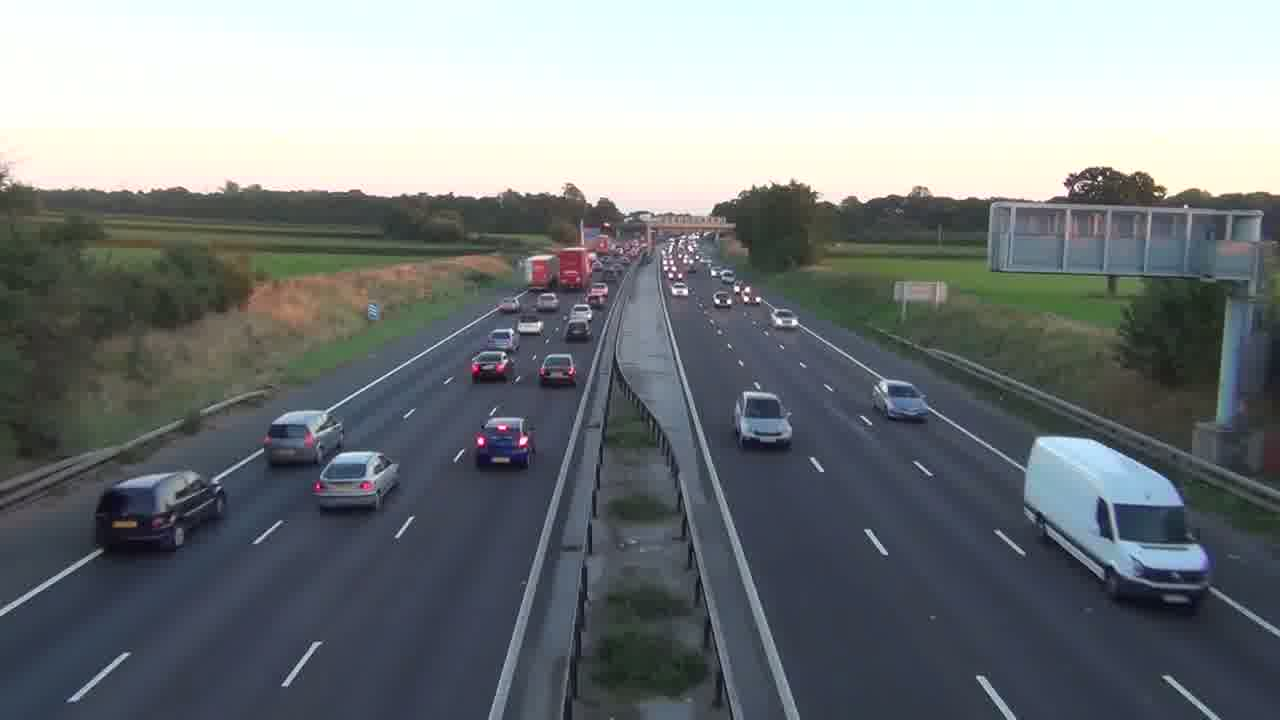car: (93, 467, 228, 552), (311, 450, 400, 513), (263, 409, 345, 466), (734, 390, 794, 448), (473, 415, 535, 468), (871, 379, 930, 422), (469, 350, 517, 384), (537, 352, 577, 388), (564, 303, 593, 341), (488, 327, 519, 353), (535, 291, 559, 313)
truck: (1022, 435, 1214, 611), (93, 467, 228, 552)
